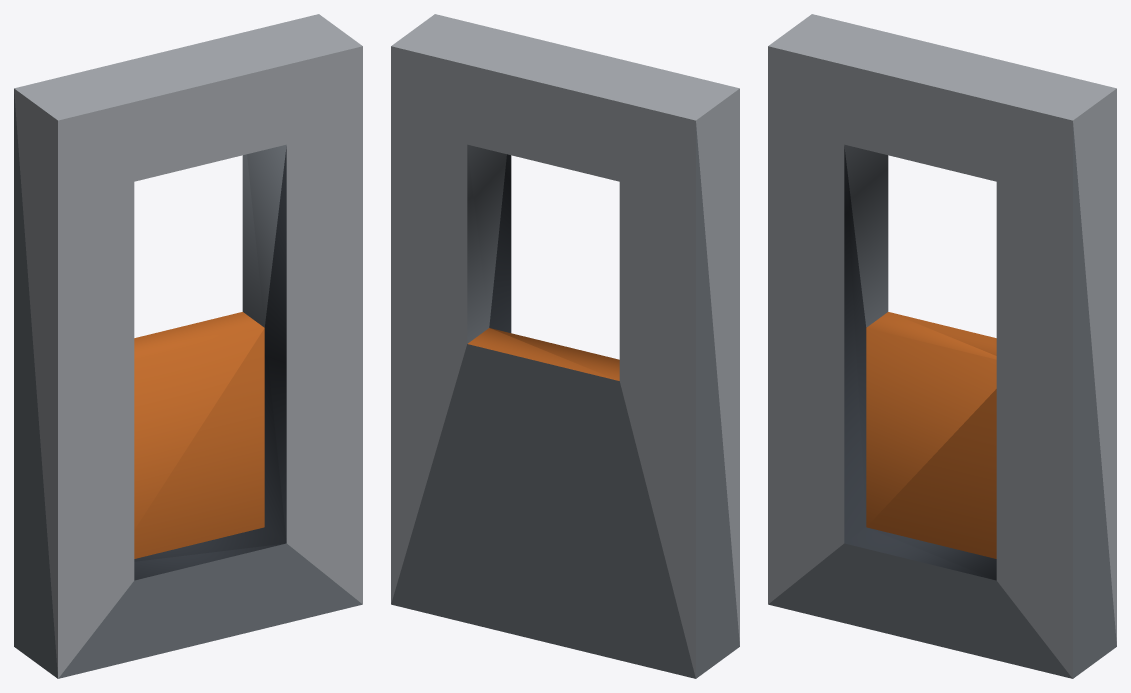
File: Kit_door-single-half.fbx
3 views of the same model, side by side, from view 1: azimuth 30°, elevation 25°; view 2: azimuth 150°, elevation 25°; view 3: azimuth 330°, elevation 25° (orthographic).
Visible parts, largest first — view 1: Kit_door-single-half; view 2: Kit_door-single-half; view 3: Kit_door-single-half.
Boxes of the visible parts, x1,y1,x2,y2 form: Kit_door-single-half: (14,14,362,678); Kit_door-single-half: (391,14,739,678); Kit_door-single-half: (768,14,1116,678).
Bounding box in the file's own units: 0.4 × 0.7 × 0.1.
